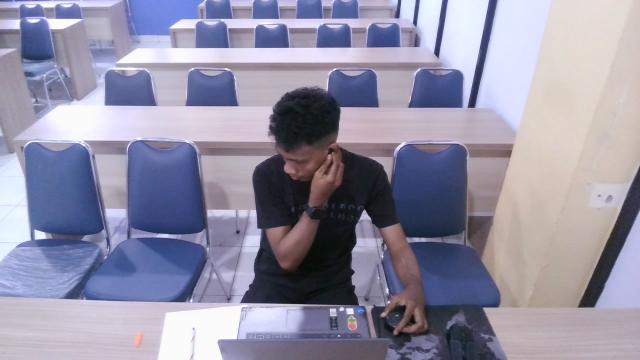Earpiece: (320, 140, 343, 166)
Head_Down_Extreme: (223, 82, 393, 312)
